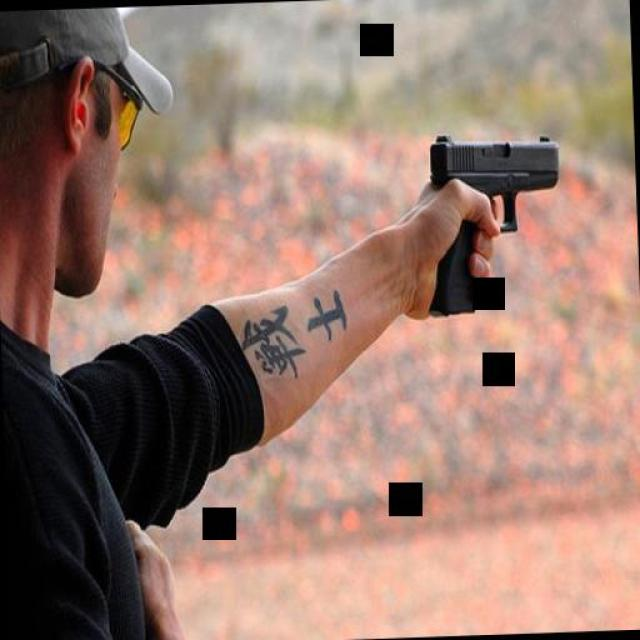gun: (418, 125, 562, 313)
